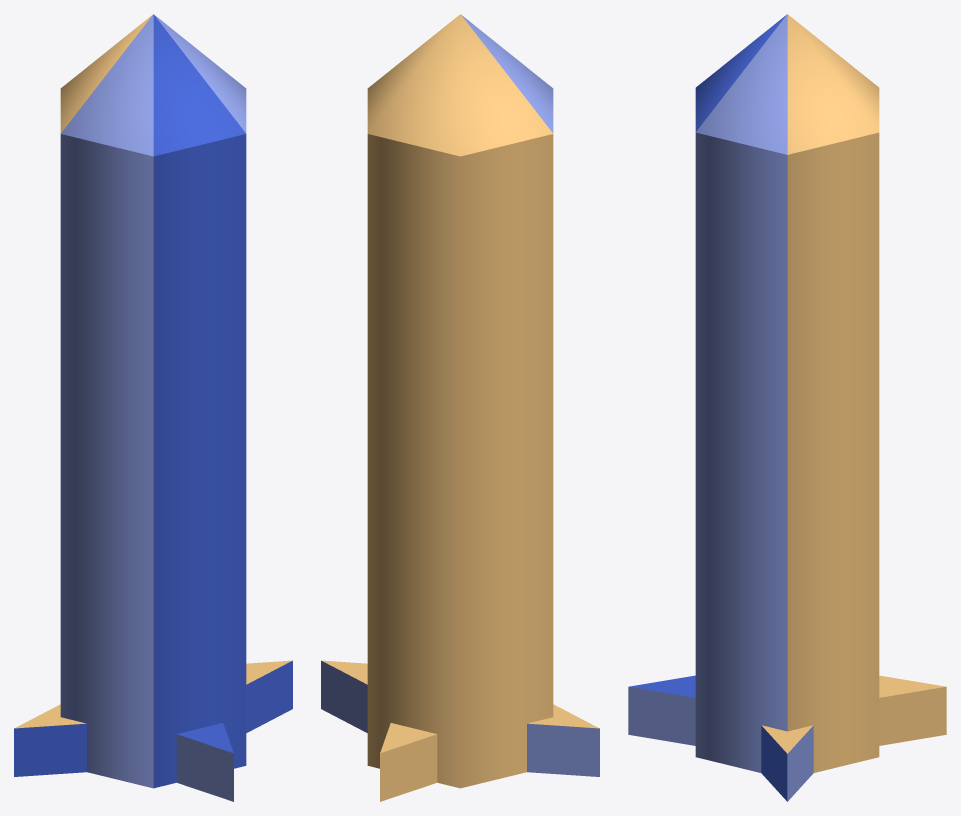
The model's file is Solo.MissileMesh.CobaltIce.glb.
The picture shows the model from 3 angles, left to right: view 1: azimuth 30°, elevation 25°; view 2: azimuth 150°, elevation 25°; view 3: azimuth 270°, elevation 25°; orthographic projection.
Parts seen in each view (by area): view 1: Solo.MissileMesh.CobaltIce; view 2: Solo.MissileMesh.CobaltIce; view 3: Solo.MissileMesh.CobaltIce.
Part boxes in pixels (box(x1,y1,x2,y2)): Solo.MissileMesh.CobaltIce: box(14, 14, 292, 801); Solo.MissileMesh.CobaltIce: box(321, 14, 599, 801); Solo.MissileMesh.CobaltIce: box(628, 14, 946, 801).
Bounding box in the file's own units: 0.6 × 1.5 × 0.6.
1 material, 1 textured.
